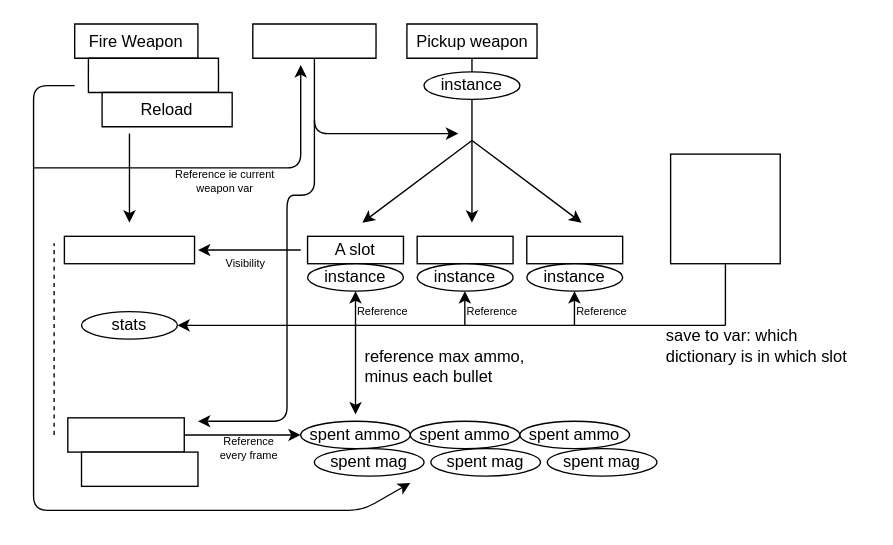
This 893x545 diagram has some shape labels left out. Here are the shapes that lost their labels. From the top down, the centre of each, then its label:
the point at 313,40: Switch weapon
the point at 153,74: Weapon Ammo
the point at 724,208: stat dictionaries - - -
the point at 129,249: Current weapon
the point at 464,249: B slot
the point at 574,249: C slot
the point at 125,434: Current Ammo
the point at 139,468: Current Mag
